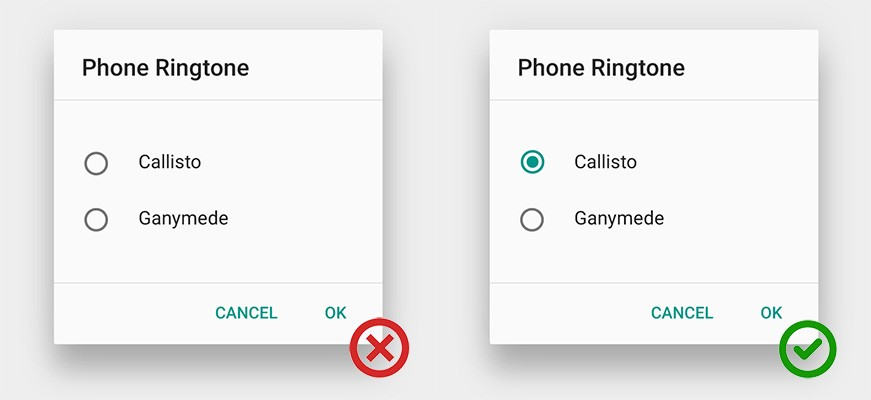checkbox: (507, 146, 555, 180), (508, 201, 552, 235)
